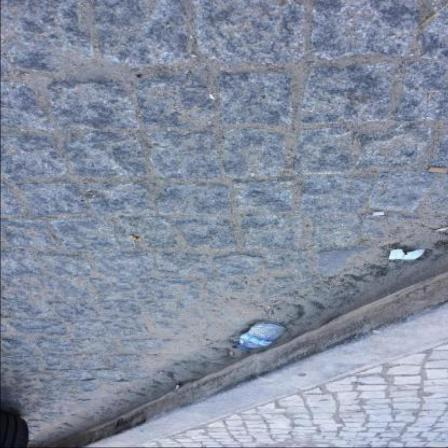Bottle: (239, 323, 287, 352)
Cigarette: (428, 168, 447, 174), (374, 213, 385, 218), (176, 385, 181, 391), (230, 353, 234, 357)
Other plastic: (390, 251, 426, 261)
